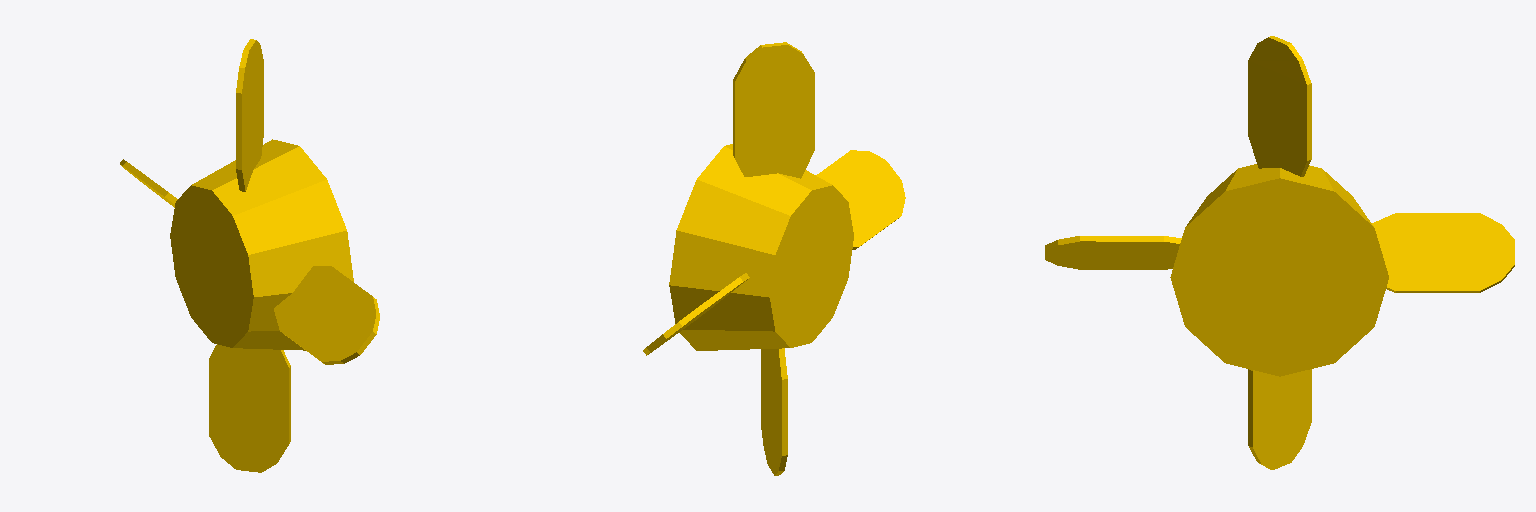
The picture shows the model from 3 angles: view 1: azimuth 30°, elevation 25°; view 2: azimuth 150°, elevation 25°; view 3: azimuth 270°, elevation 25°; orthographic projection.
Visible parts, largest first — view 1: Cube.008_Cube.012; view 2: Cube.008_Cube.012; view 3: Cube.008_Cube.012.
Boxes of the visible parts, box(x1,y1,x2,y2) form: Cube.008_Cube.012: box(120, 39, 379, 472); Cube.008_Cube.012: box(643, 42, 905, 475); Cube.008_Cube.012: box(1045, 36, 1514, 469).
Bounding box in the file's own units: 0.0137 × 0.0628 × 0.0628.
Materials: 1 (1 with a texture image).